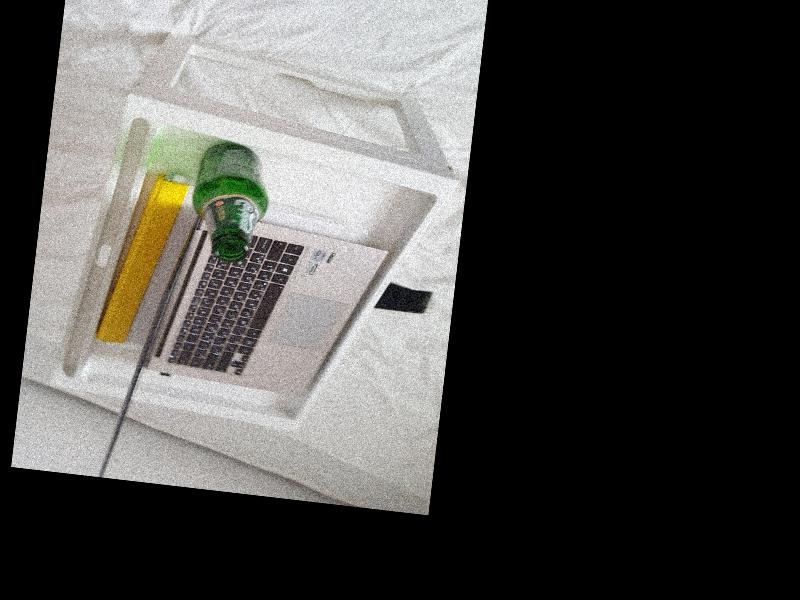Beer: (186, 138, 273, 264)
